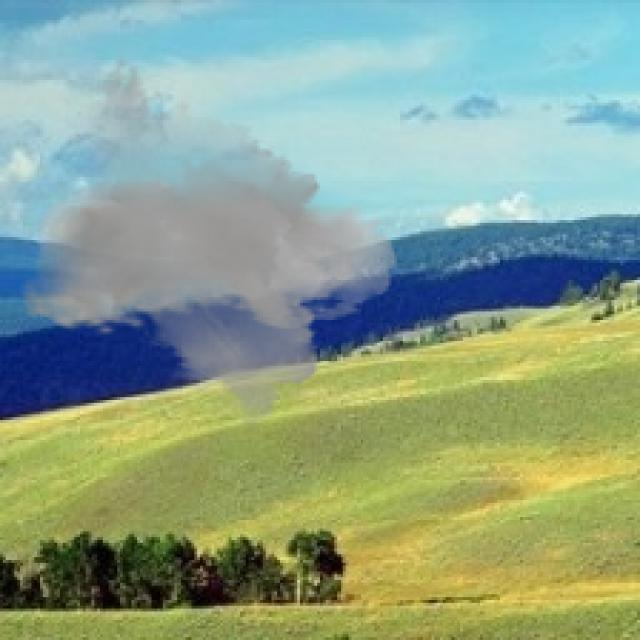Smoke: (20, 57, 397, 432)
